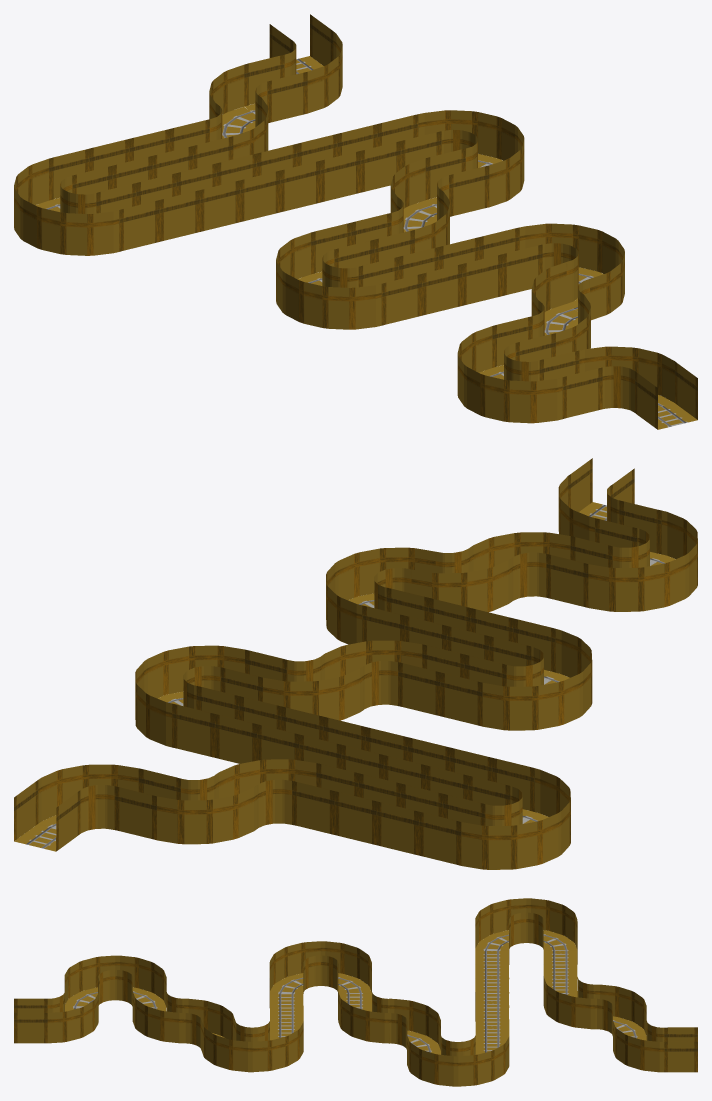
The model's file is exploreMap.fbx.
3 renders of one model, top to bottom at view 1: azimuth 30°, elevation 25°; view 2: azimuth 150°, elevation 25°; view 3: azimuth 270°, elevation 25°, orthographic. The views are drawn at different scales.
Parts seen in each view (by area): view 1: St.006; view 2: St.006; view 3: St.006.
Part boxes in pixels (left/top/right/bottom): St.006: left=14, top=14, right=697, bottom=429; St.006: left=14, top=458, right=697, bottom=869; St.006: left=14, top=898, right=697, bottom=1086.
Bounding box in the file's own units: 6539 × 592 × 11966.
Materials: 4 (4 with a texture image).
